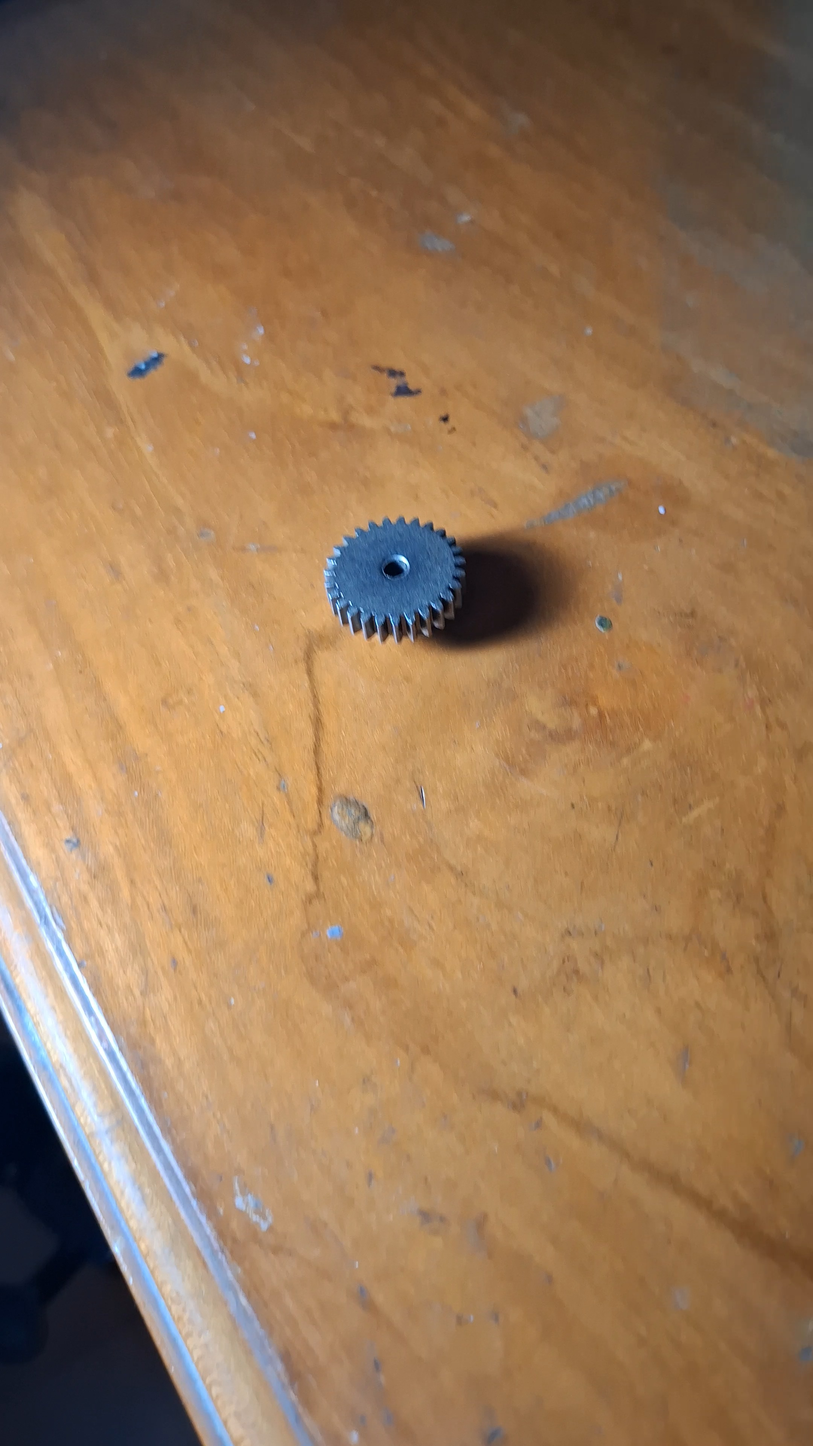spur gear: (324, 517, 464, 641)
